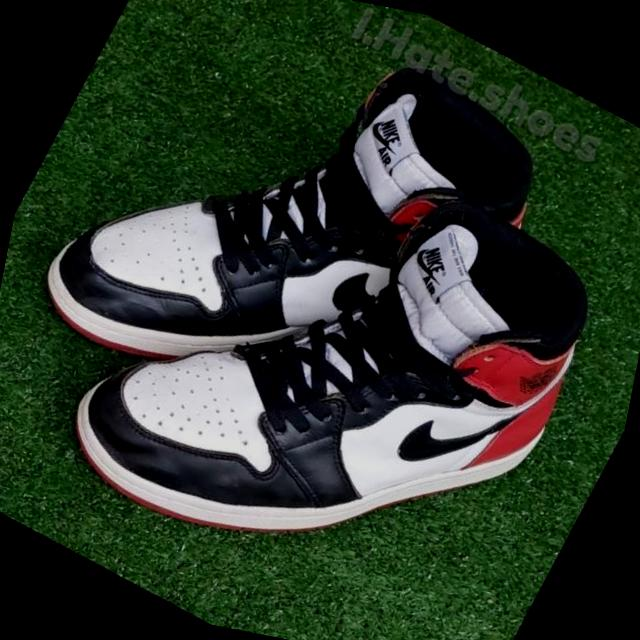nike_fake_jordan: (21, 57, 640, 640), (1, 0, 580, 517)
